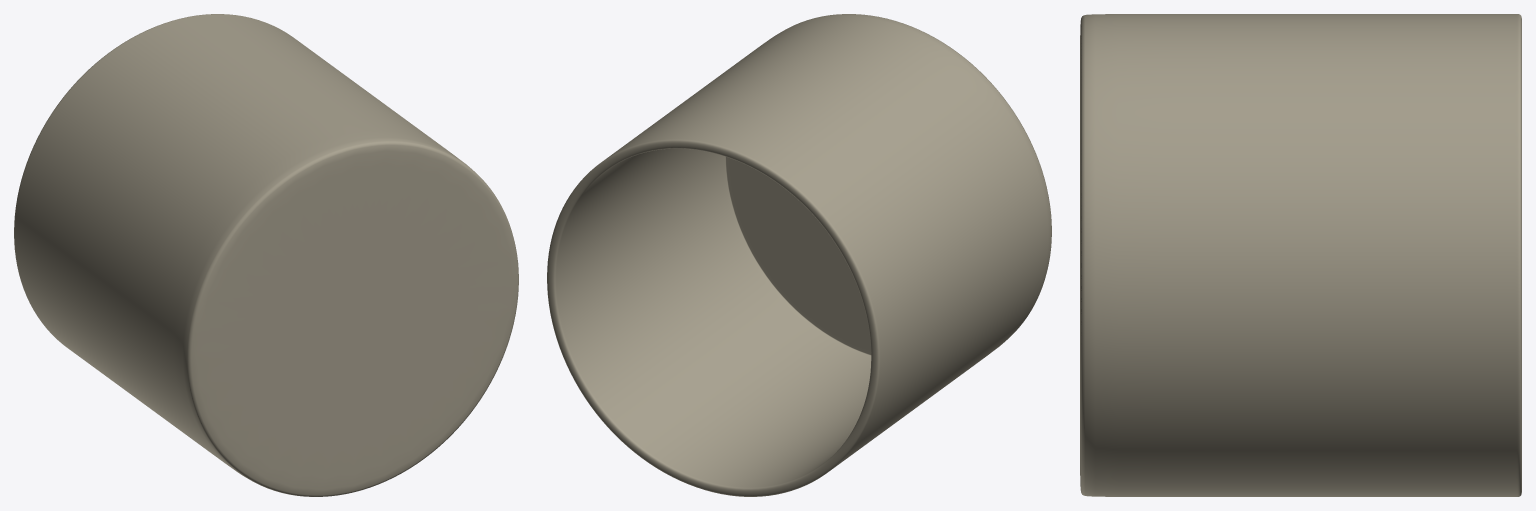
Rendered from head.obj.
3 views of the same model, side by side, from view 1: azimuth 30°, elevation 25°; view 2: azimuth 150°, elevation 25°; view 3: azimuth 270°, elevation 25° (orthographic). The views are drawn at different scales.
Parts seen in each view (by area): view 1: glass_cap; view 2: glass_cap; view 3: glass_cap.
Boxes of the visible parts, x1,y1,x2,y2 form: glass_cap: [14, 14, 518, 496]; glass_cap: [547, 14, 1051, 496]; glass_cap: [1080, 14, 1521, 496].
Bounding box in the file's own units: 0.0319 × 0.0319 × 0.0292.
